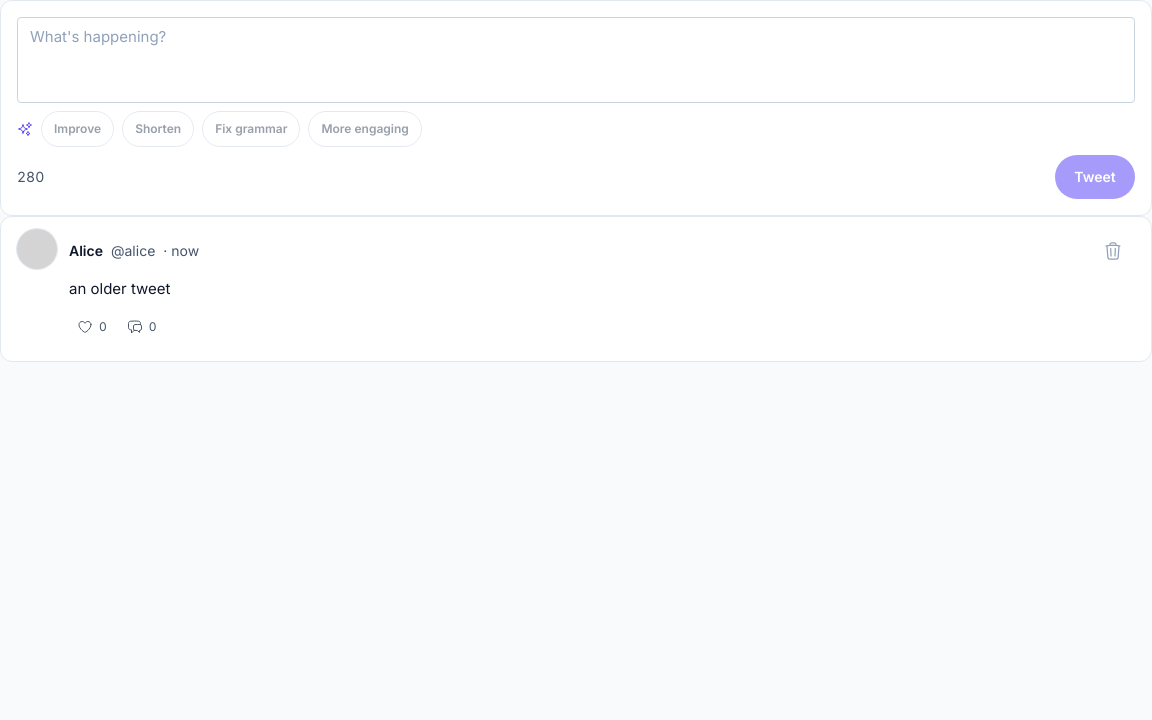
Scenario: Composer › creates a tweet and shows it at the top of the timeline without a reload
Expected: the text "an older tweet" is shown, [69,278,170,298]
Type "fresh off the composer" into the text box with placeholder "What's happening?" at (576, 60), box [17,17,1135,102]
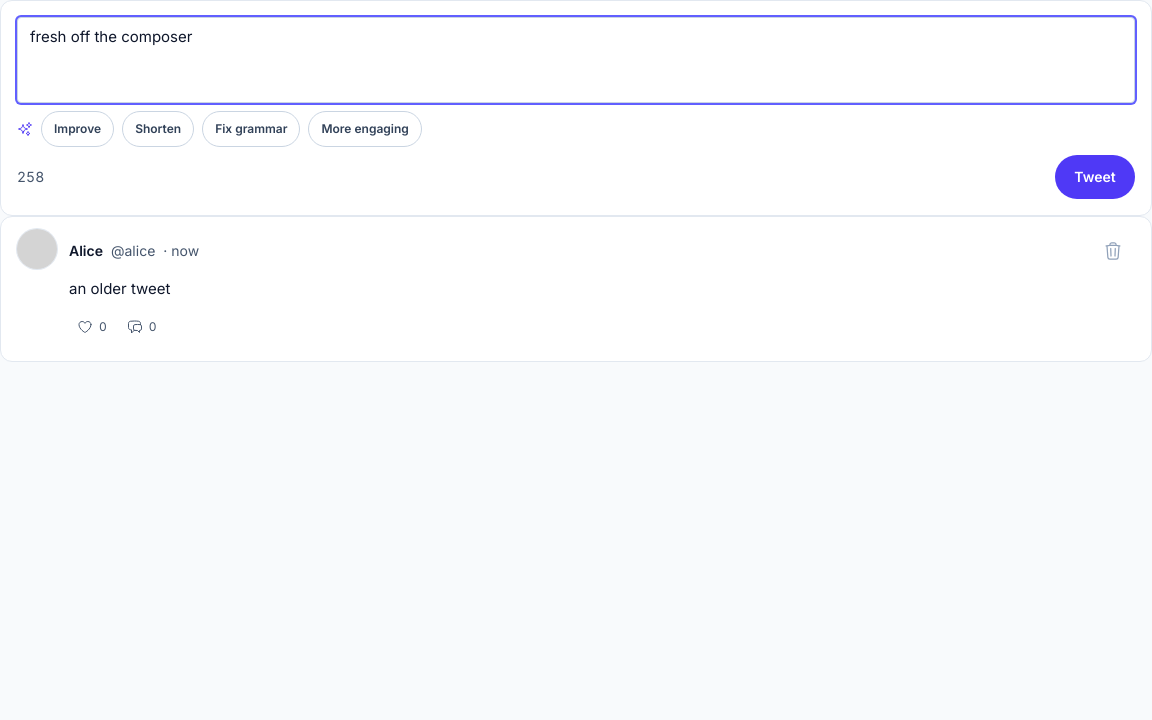
Click the button "Tweet" at (1095, 176), box [1055,154,1135,198]
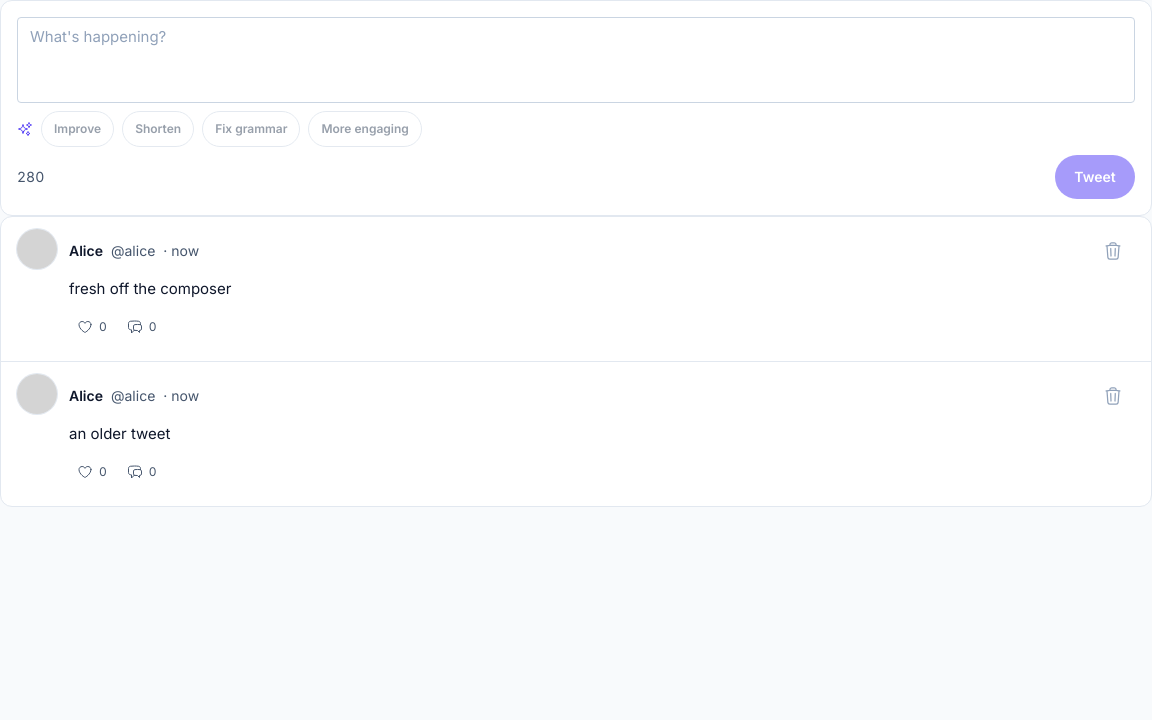
Expected: the text with test id "tweet-content" reads "an older tweet", [69,424,170,443]
Now the text with test id "tweet-content" reads "fresh off the composer", box [69,278,231,298]
